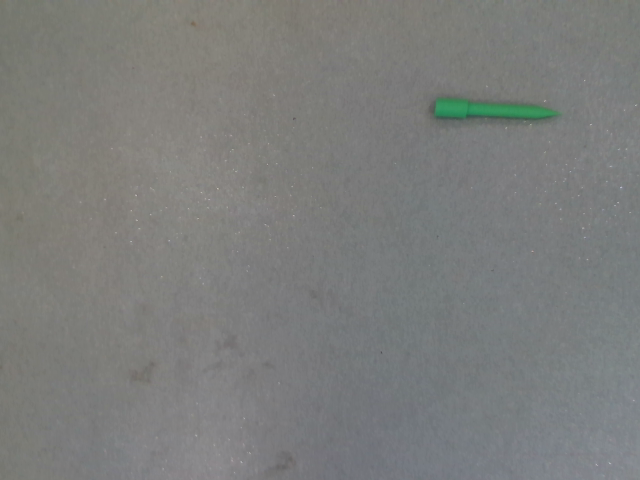Probe: (430, 93, 572, 130)
